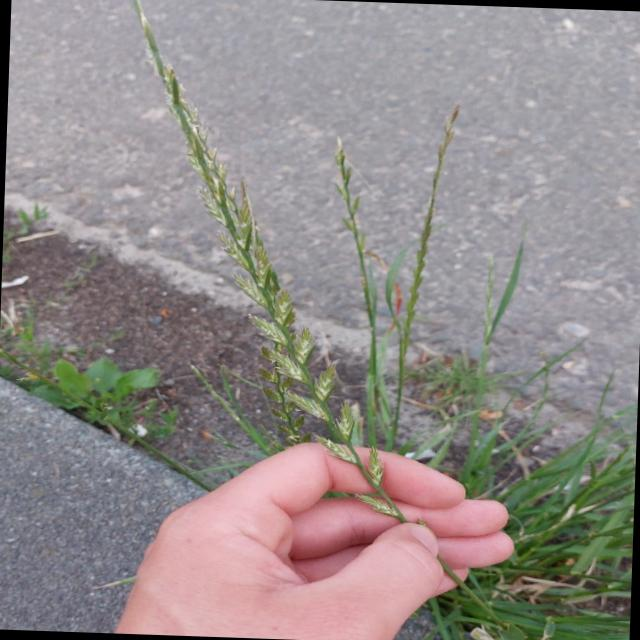Lolium: (121, 10, 421, 516), (398, 102, 462, 338), (320, 140, 373, 262)
